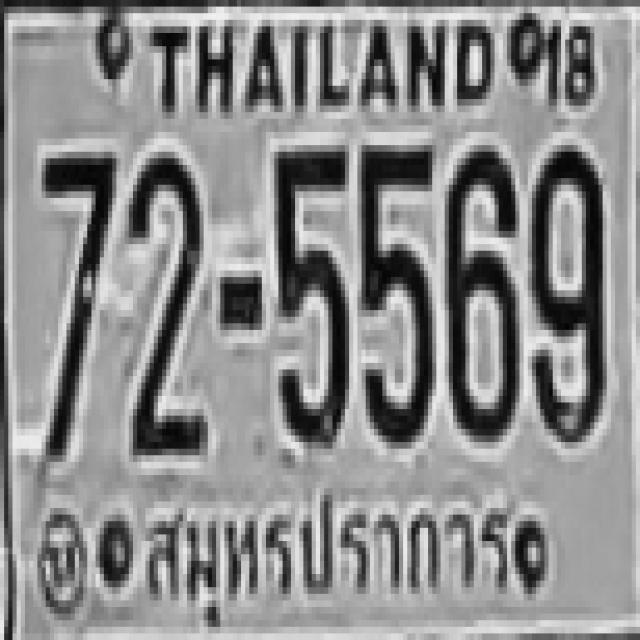2: (126, 148, 202, 452)
5: (270, 145, 345, 442), (358, 142, 432, 439)
6: (442, 142, 518, 439)
7: (40, 148, 114, 452), (40, 148, 114, 353)
9: (528, 138, 602, 436)
SamutPrakan: (137, 487, 521, 625)
